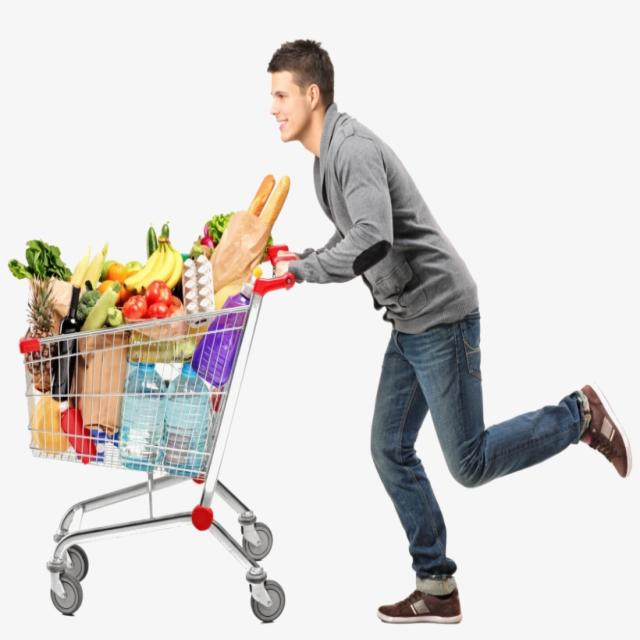Person: (267, 39, 633, 622)
